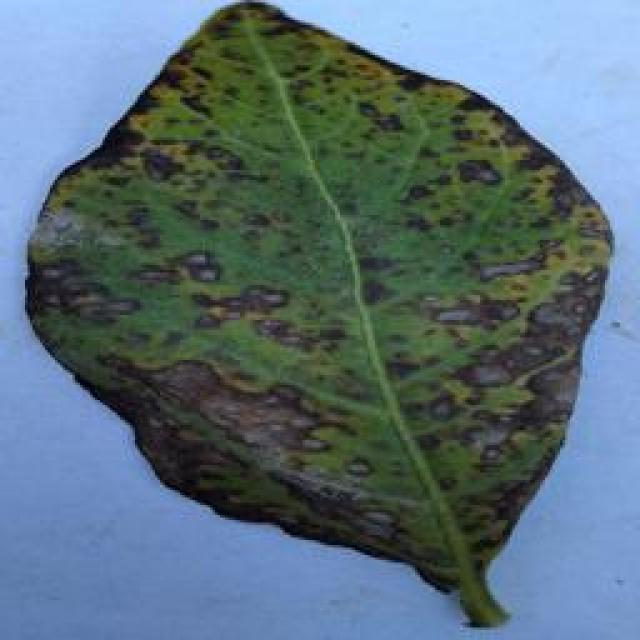Potato_Early_Blight: (7, 12, 636, 636)
